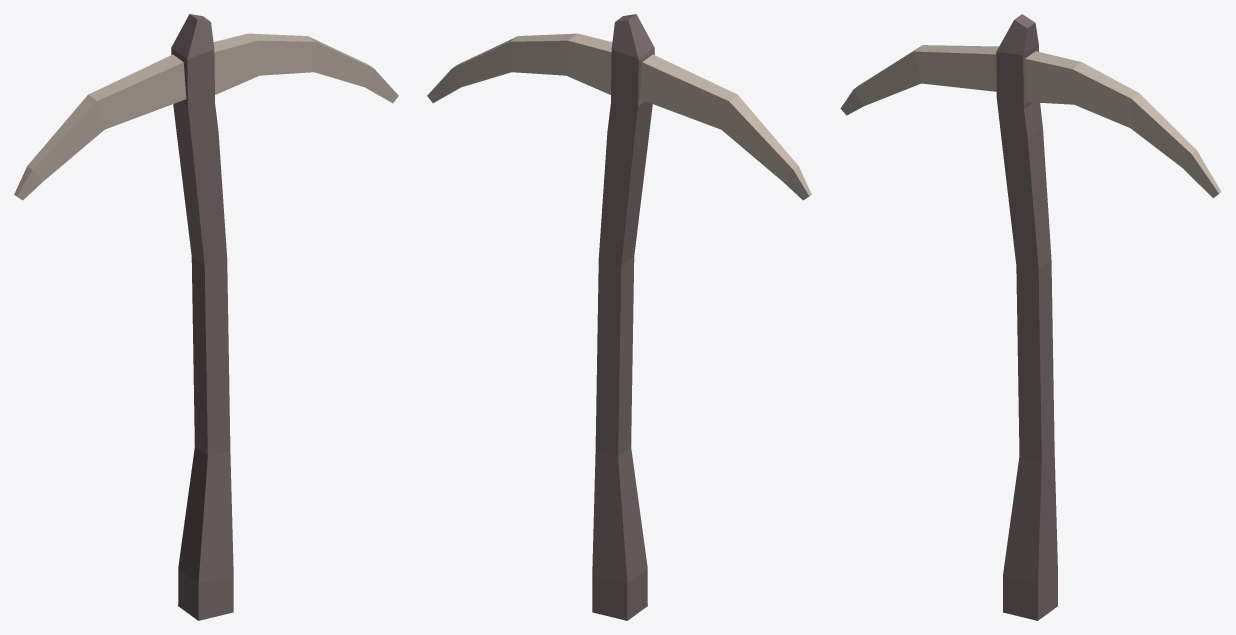
The model's file is Pickaxe.fbx.
The picture shows the model from 3 angles, left to right: view 1: azimuth 30°, elevation 25°; view 2: azimuth 150°, elevation 25°; view 3: azimuth 330°, elevation 25°; orthographic projection.
Parts seen in each view (by area): view 1: PickAxe; view 2: PickAxe; view 3: PickAxe.
Boxes of the visible parts, <box> form: PickAxe: <box>14,14,398,620</box>; PickAxe: <box>427,14,811,620</box>; PickAxe: <box>840,14,1221,620</box>.
Bounding box in the file's own units: 86.77 × 129 × 8.
